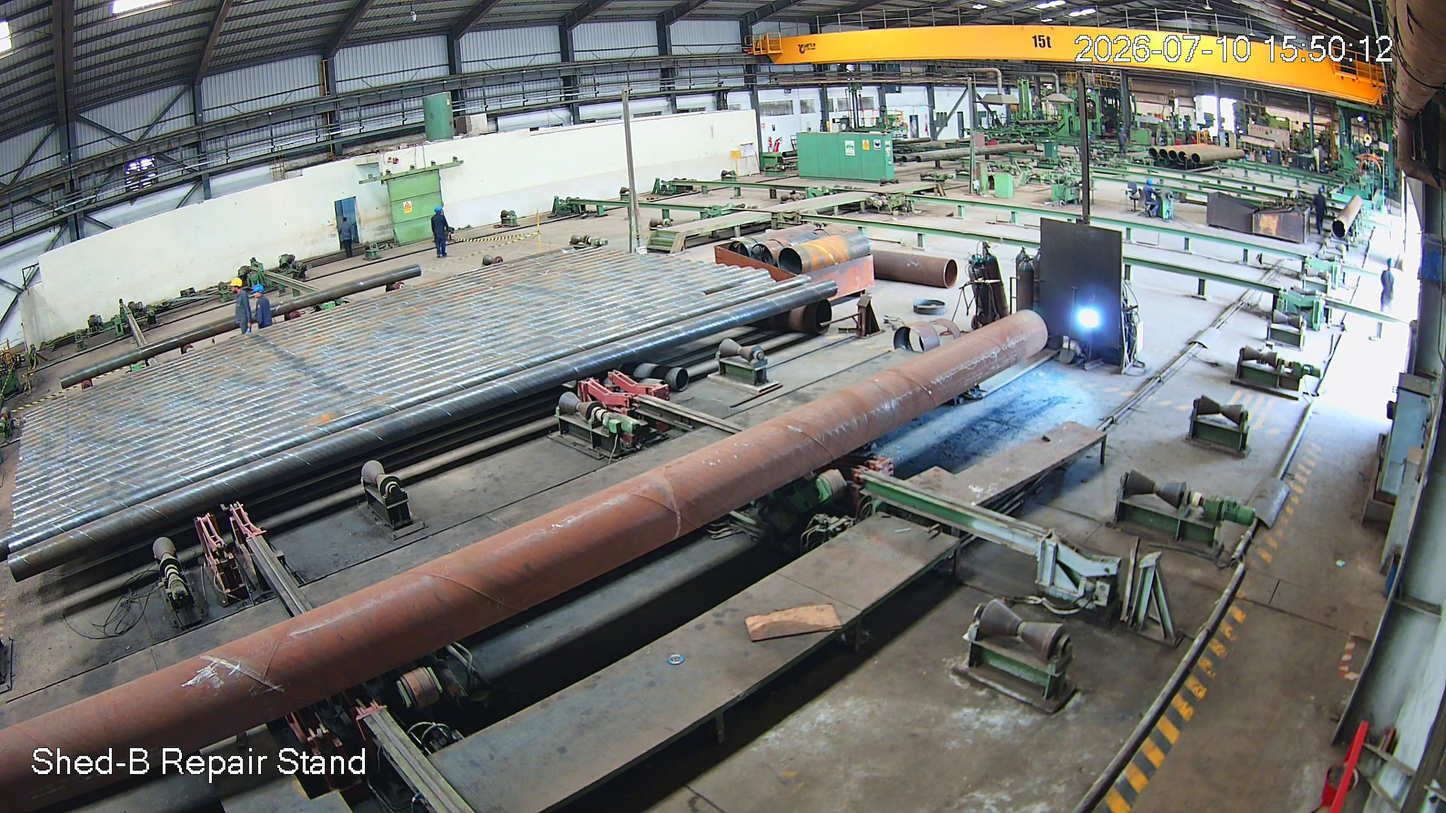Helmet: (229, 276, 246, 299), (251, 282, 266, 303), (434, 201, 446, 221)
Person: (227, 279, 255, 338), (431, 204, 452, 258), (251, 285, 271, 331)
